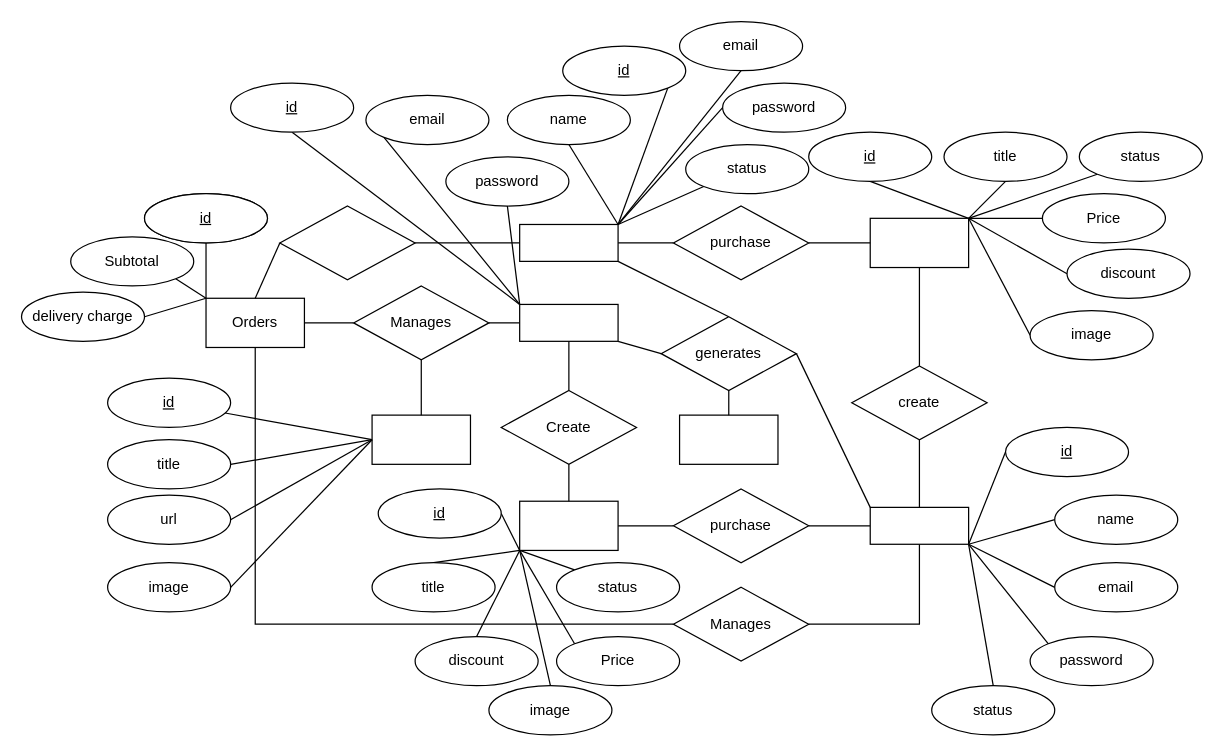
This 1224x756 diagram has some shape labels left out. The shapes that lost their labels are listed below. From the top down, each one's centre as x and y in pixels, then its label:
At [347,242]: "Creates".
At [568,242]: "Customer".
At [919,242]: "Products".
At [568,322]: "Admin".
At [420,439]: "Banners".
At [728,439]: "PAT".
At [568,525]: "Seeds".
At [919,525]: "Farmer".
